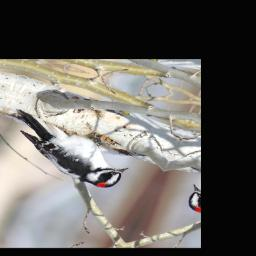Woodpecker: (0, 107, 145, 191)
